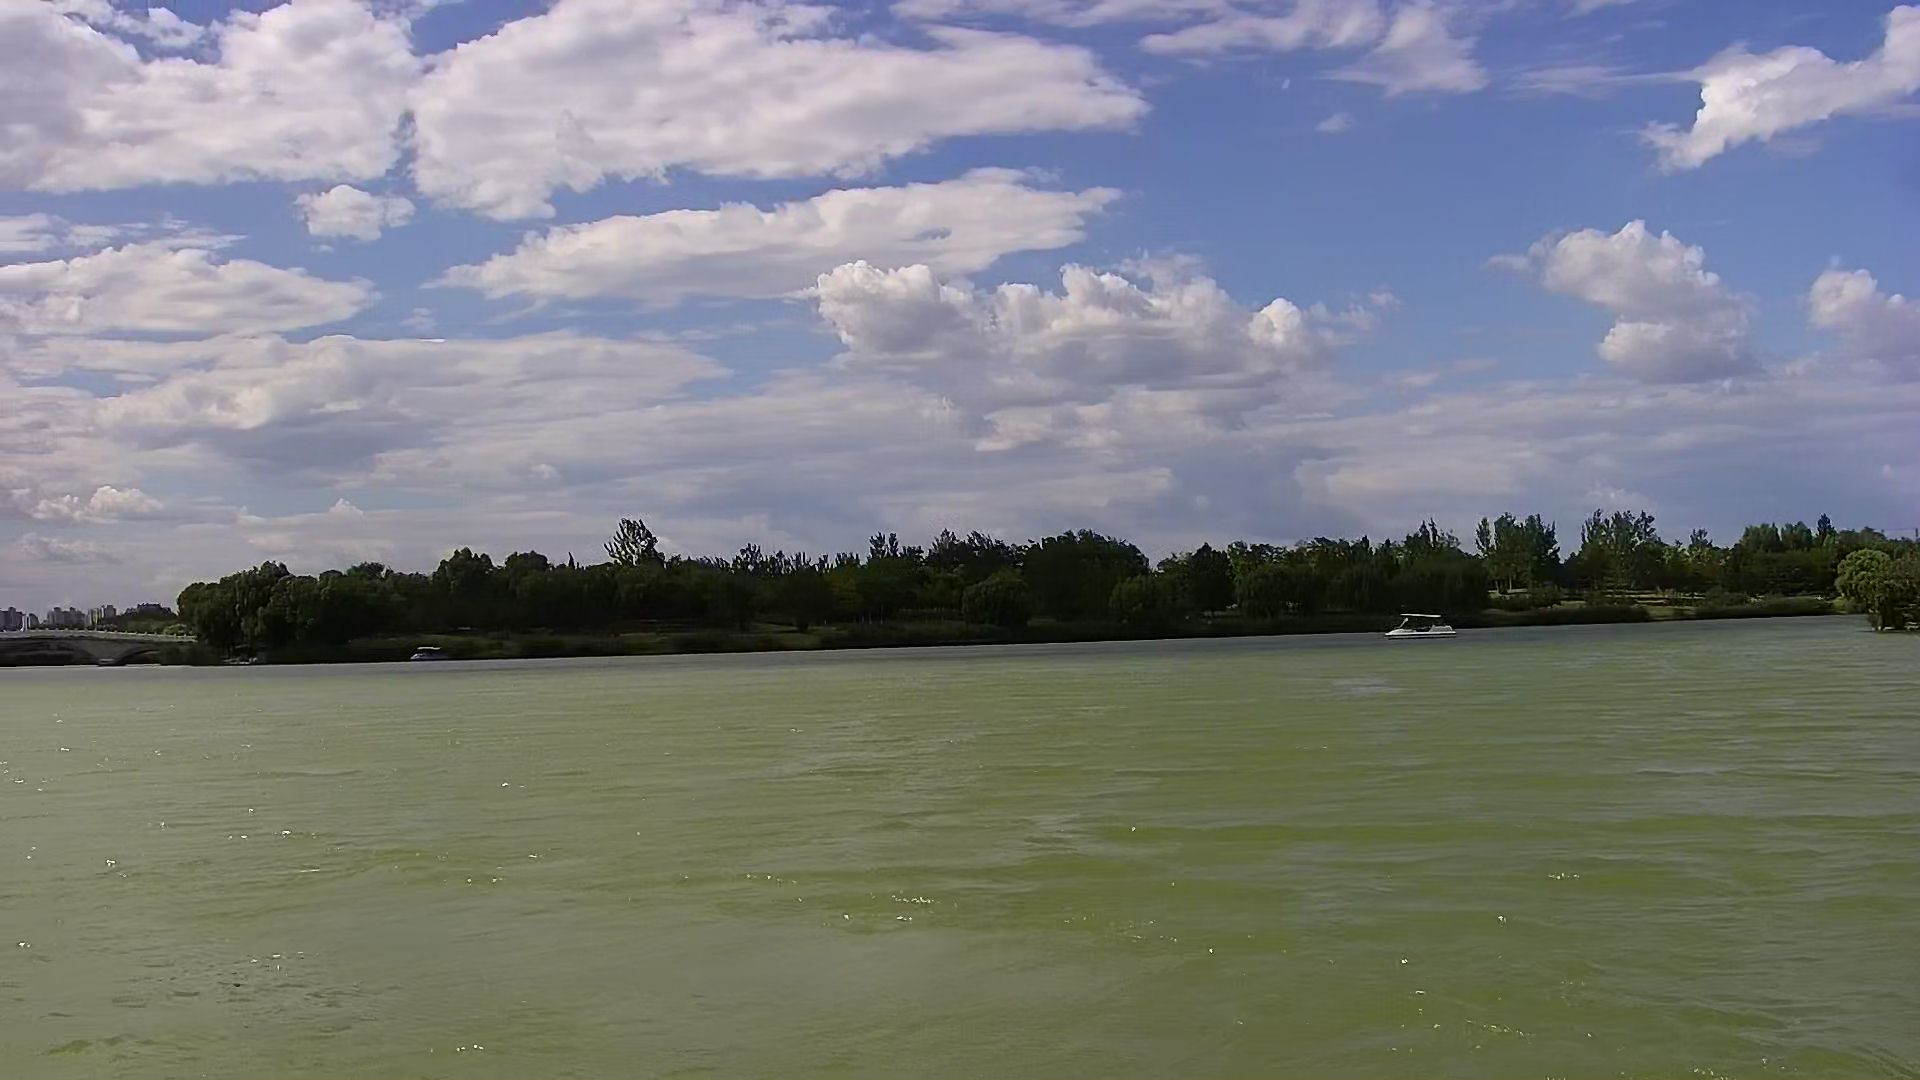boat: (1375, 609, 1462, 641), (409, 640, 458, 669)
bridge: (1, 624, 196, 665)
